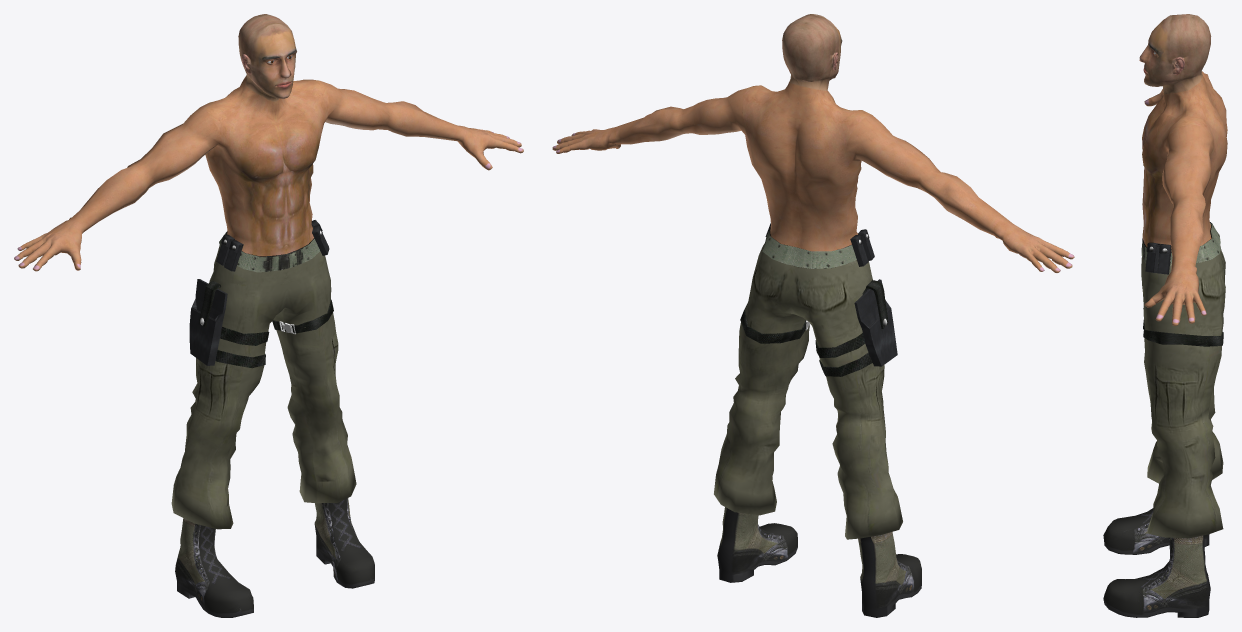
Rendered from Zabihi@_fix.fbx.
3 renders of one model, left to right at view 1: azimuth 30°, elevation 25°; view 2: azimuth 150°, elevation 25°; view 3: azimuth 270°, elevation 25°, orthographic. The views are drawn at different scales.
Visible parts, largest first — view 1: Body, handgun-Cover, Belt, Object; view 2: Body, handgun-Cover, Belt, Object, Left-ties; view 3: Body, Left-ties, Belt, Ammo_Box01, Ammo_Box02.
Part boxes in pixels (x1,y1,x2,y2): Body: (14,14,523,617); handgun-Cover: (189,279,227,365); Belt: (219,231,320,272); Object: (215,326,269,368); Body: (552,14,1074,617); handgun-Cover: (854,279,897,366); Belt: (762,228,856,268); Object: (815,333,872,376); Left-ties: (740,304,810,343); Body: (1103,14,1227,617); Left-ties: (1143,326,1223,346); Belt: (1141,222,1220,265); Ammo_Box01: (1145,242,1160,272); Ammo_Box02: (1157,244,1171,274).
Size of the model in its own units: 180 by 191 by 38.32.
